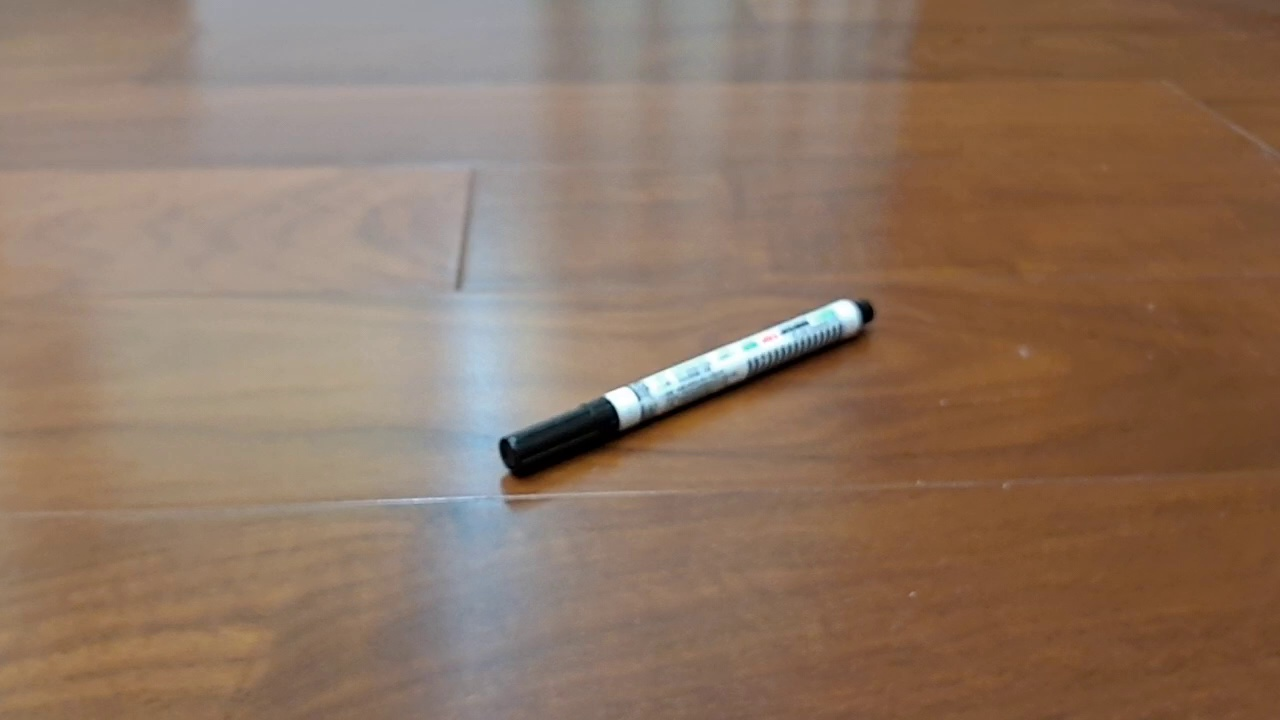pen: (498, 298, 875, 479)
